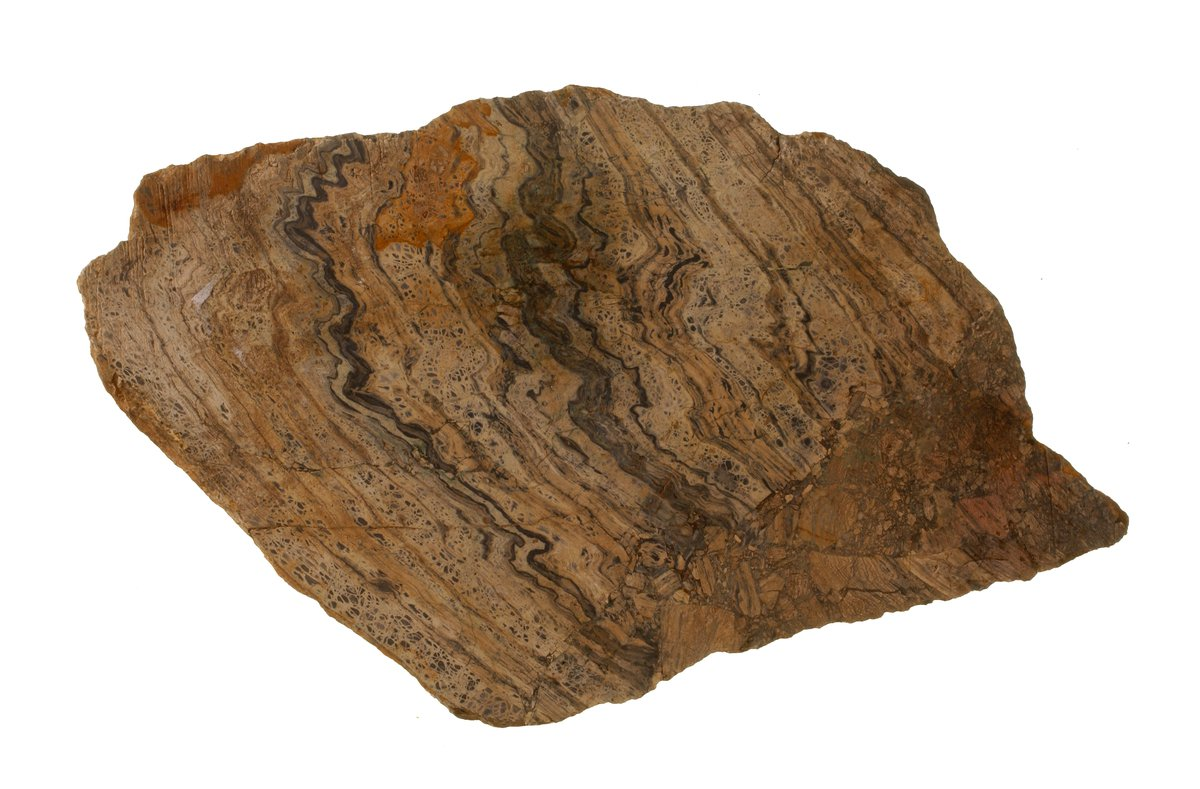rock: (77, 84, 1132, 728)
